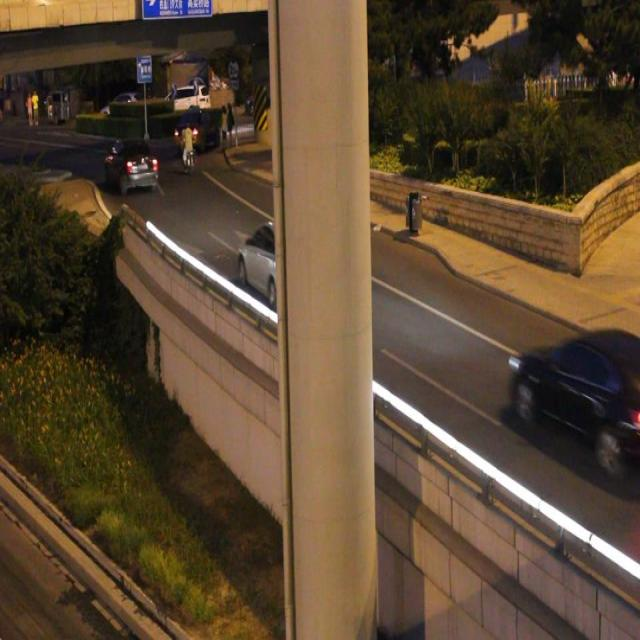car: (508, 325, 640, 462), (235, 216, 324, 308)
